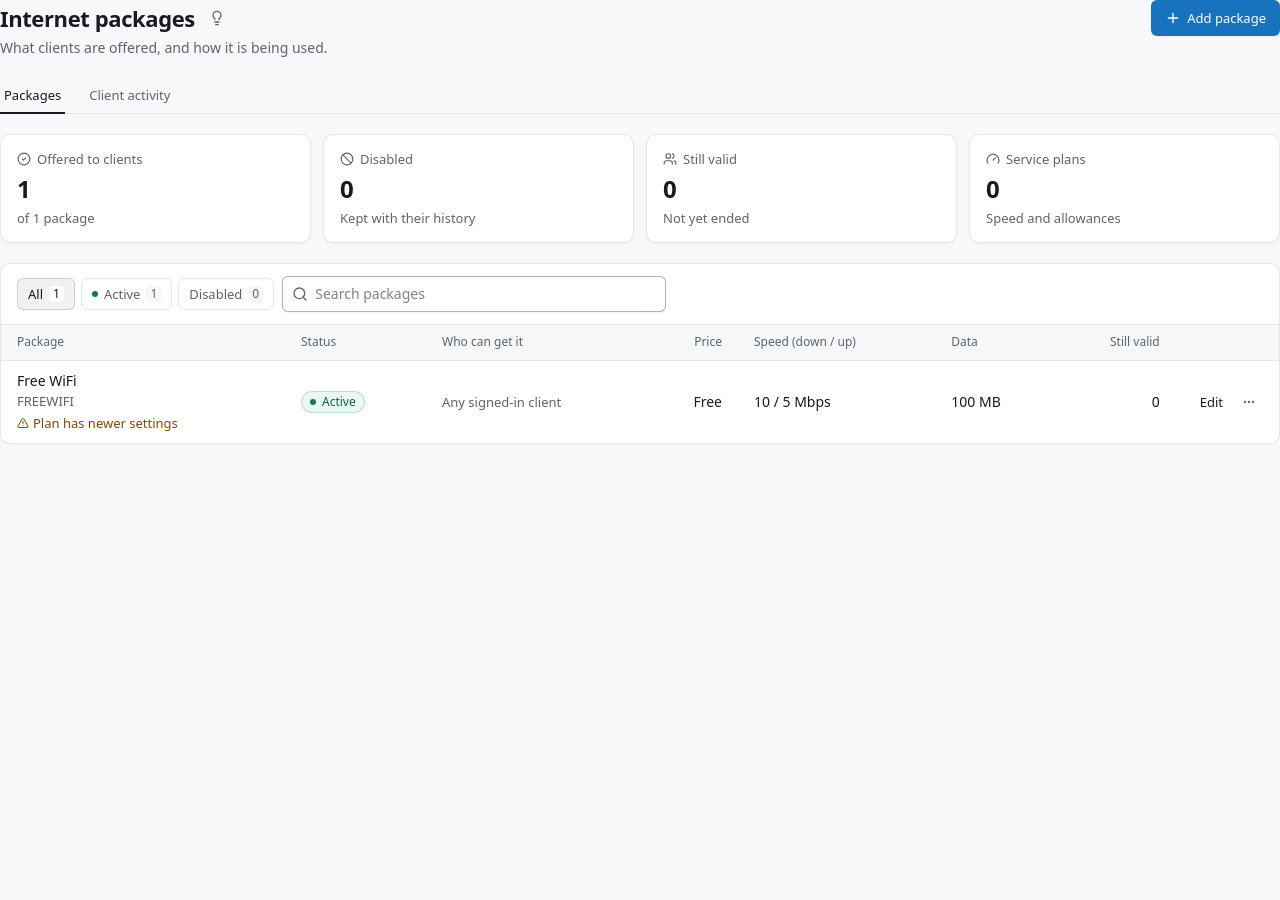
InternetPackagesPage — packages › directs a stale plan pin to Service plans, not to Edit and save
Click the text "Free WiFi". click: (47, 380)
box: x1=17 y1=371 x2=77 y2=390
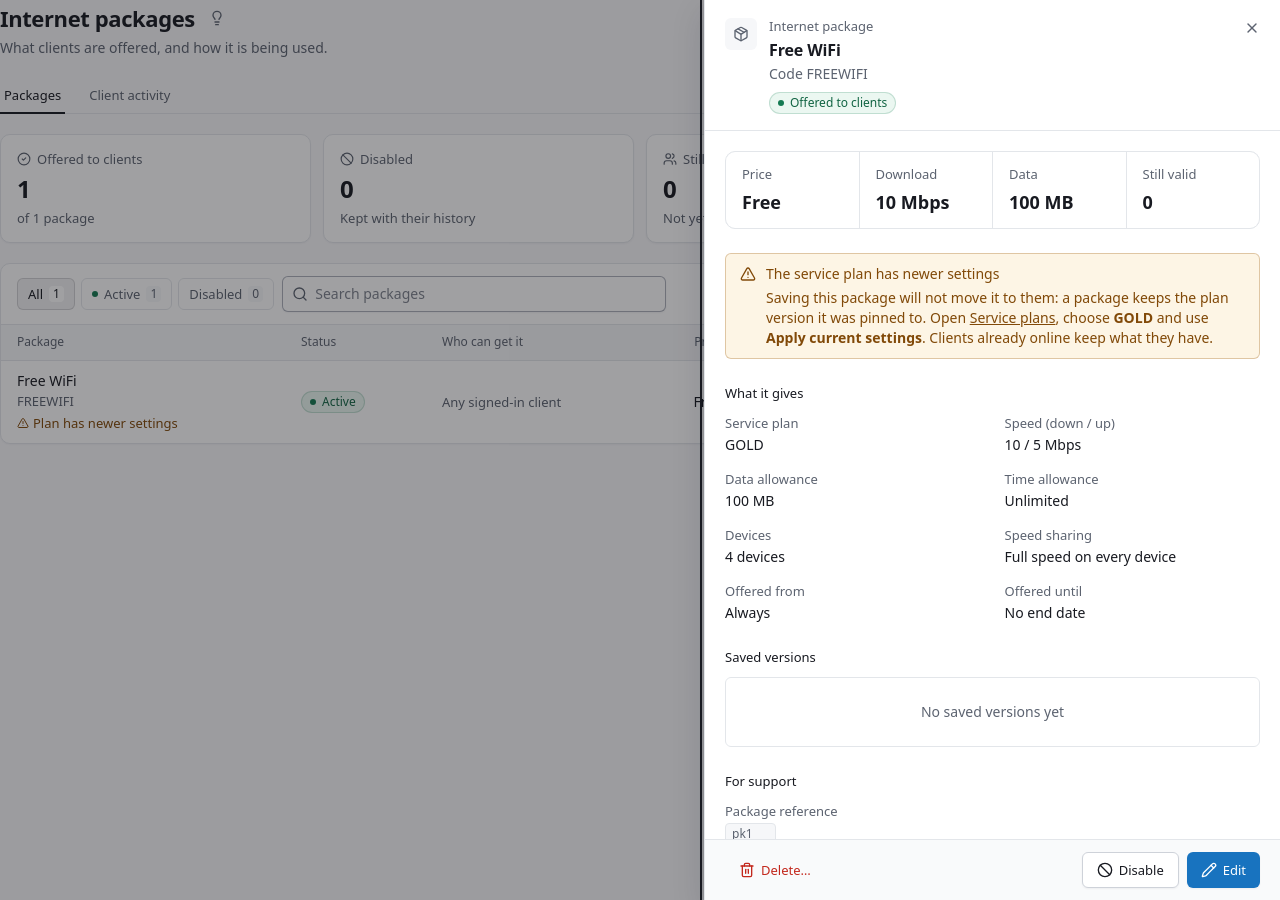
Check: the text "Apply current settings" is shown, box x1=766 y1=328 x2=922 y2=347
Check: the text "already online keep what they have" is shown, box x1=922 y1=328 x2=1213 y2=347
